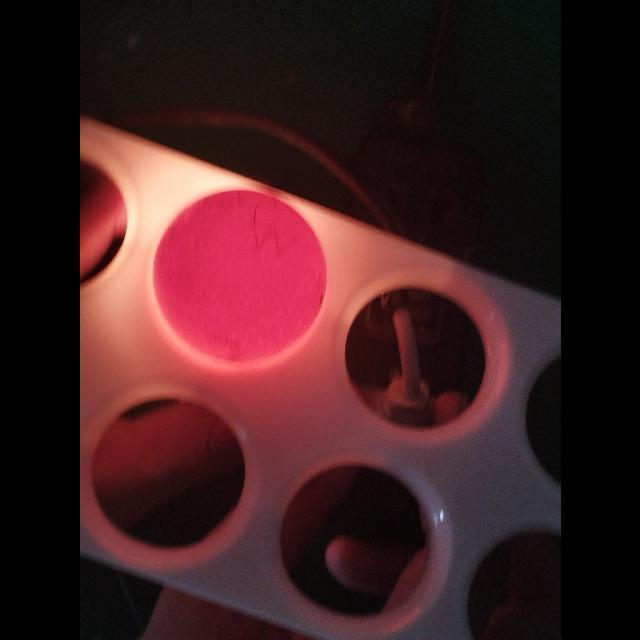Infertile: (148, 185, 328, 368)
